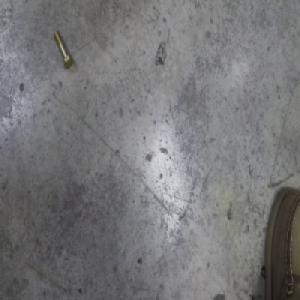Bolt: (54, 29, 74, 69)
